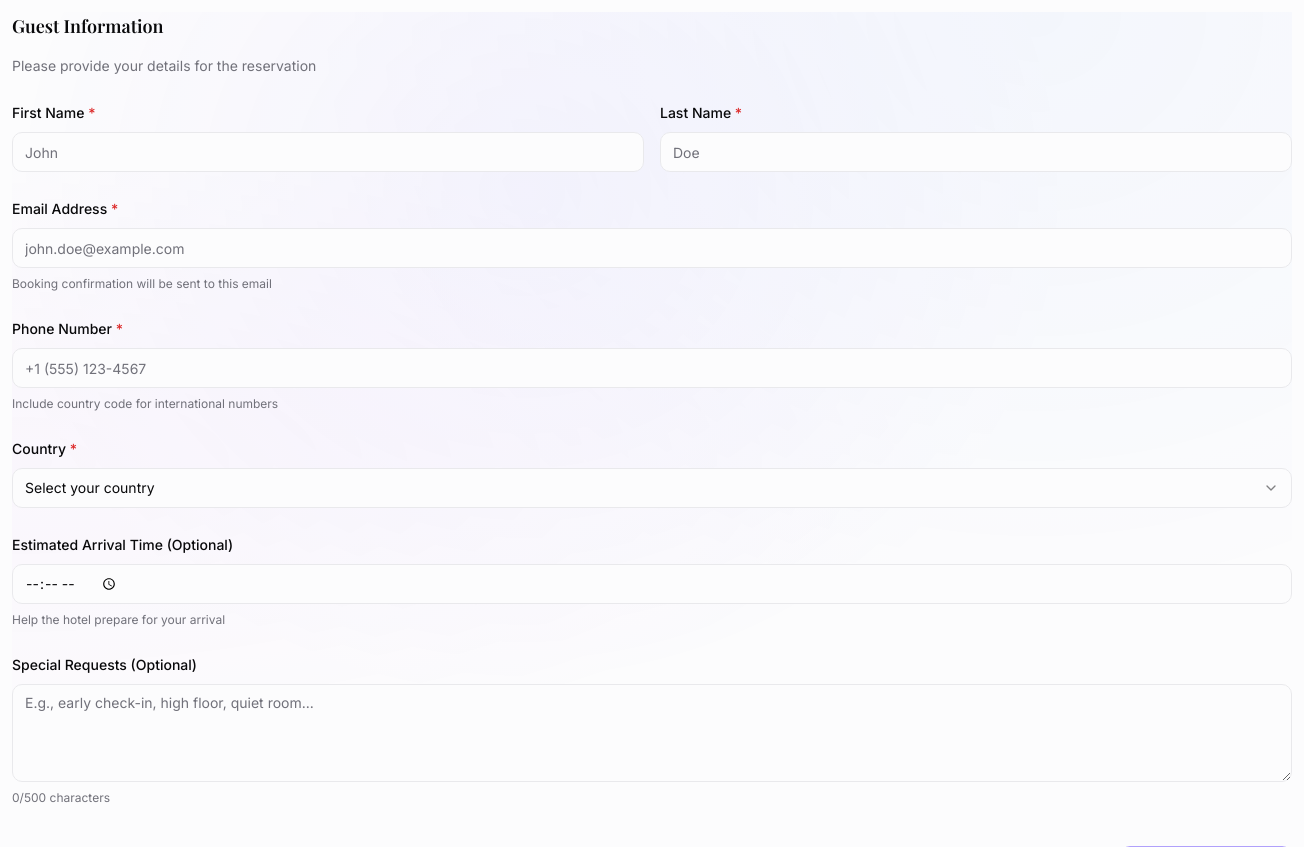
Test: GuestInfoForm Component › Required Field Validation › should show error when email is empty
The width and height of the screenshot is (1304, 847).
Click the field labelled "Email Address *" at coordinates (652, 248), box [12,228,1292,268]
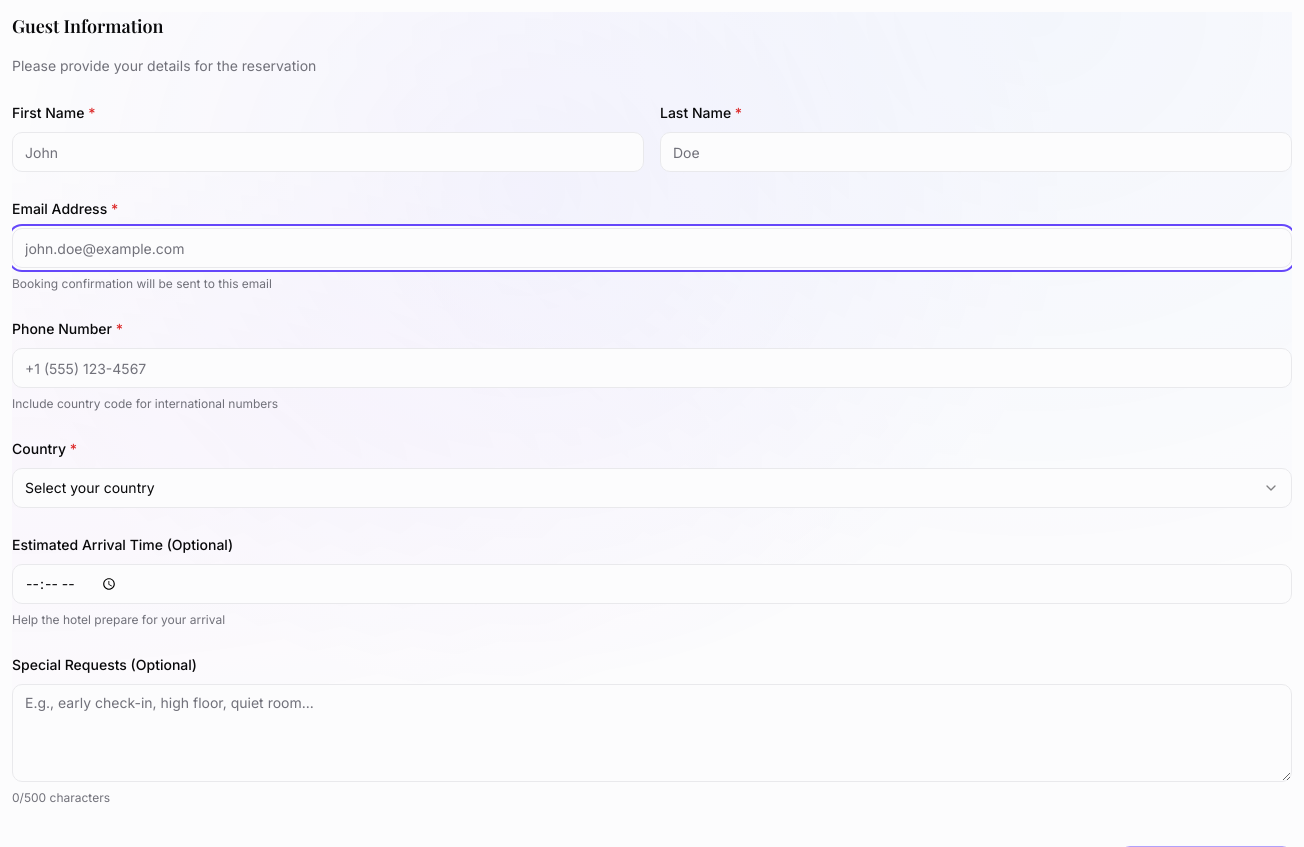
Press Tab
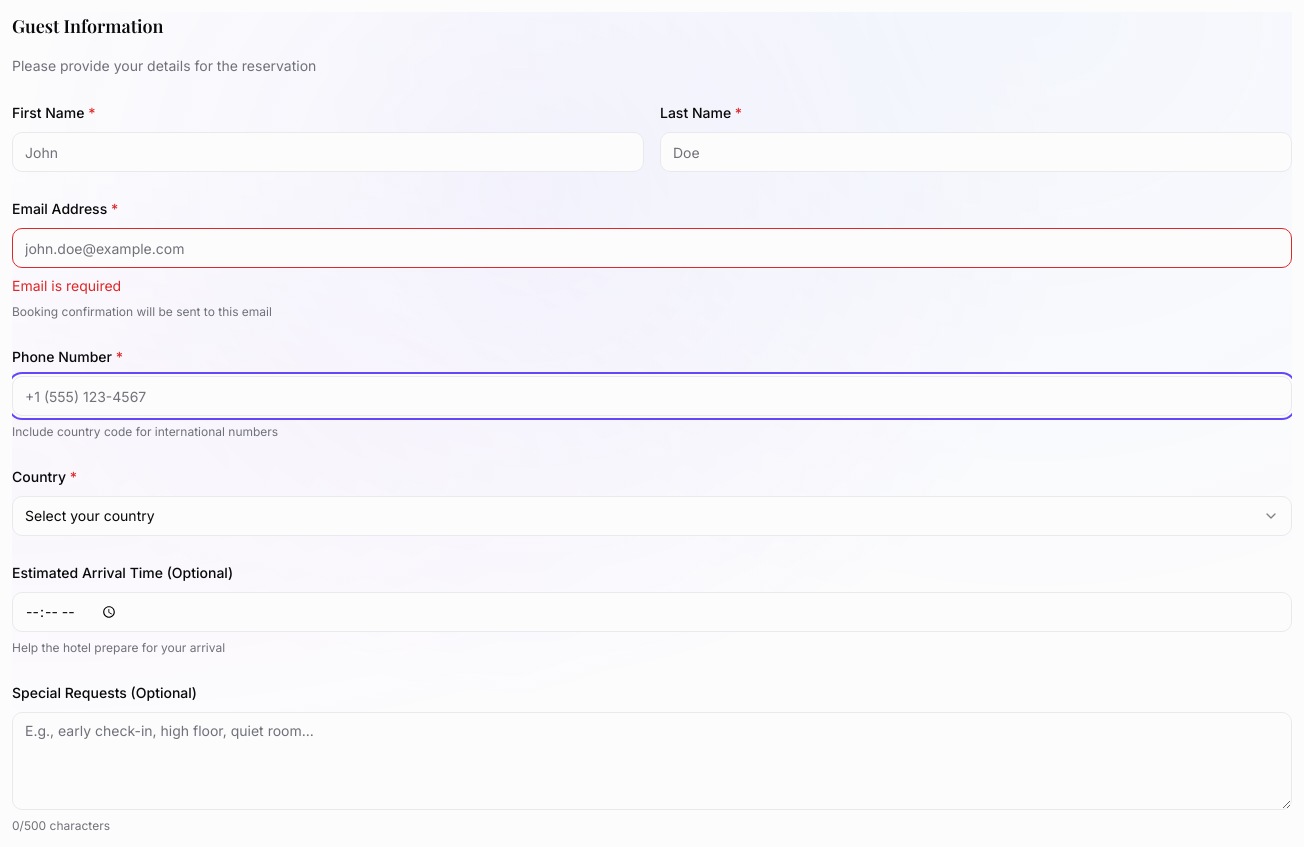
Check: the text "Email is required" is shown, box [12,277,121,294]
